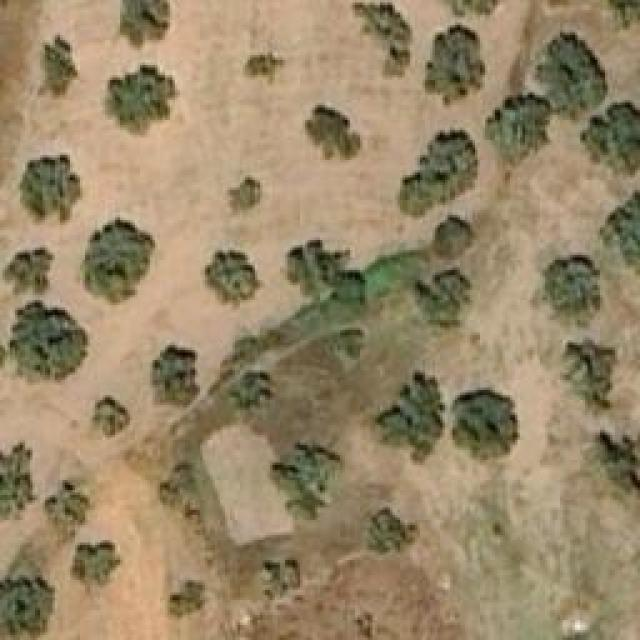Tree: (398, 130, 478, 220), (370, 367, 448, 455), (10, 300, 88, 380), (580, 73, 640, 176), (85, 218, 155, 303), (420, 23, 485, 108), (538, 32, 608, 110), (450, 388, 520, 463), (107, 65, 175, 133), (18, 153, 83, 223), (353, 3, 413, 78), (488, 95, 551, 160), (597, 192, 640, 277), (278, 448, 333, 513), (205, 250, 263, 310), (542, 255, 600, 315), (590, 428, 639, 496), (150, 343, 200, 408), (0, 577, 52, 637), (0, 442, 38, 520), (115, 0, 170, 50), (38, 32, 78, 100), (308, 105, 361, 155), (565, 340, 608, 398), (290, 243, 338, 293), (70, 540, 123, 585), (423, 273, 468, 326), (158, 458, 203, 511), (5, 247, 53, 295), (227, 367, 275, 415), (365, 510, 418, 553), (45, 480, 88, 530), (92, 395, 130, 438), (223, 178, 263, 218), (170, 580, 205, 618), (245, 53, 285, 86), (438, 0, 508, 18), (335, 323, 365, 363), (442, 220, 470, 255), (607, 0, 640, 20)
